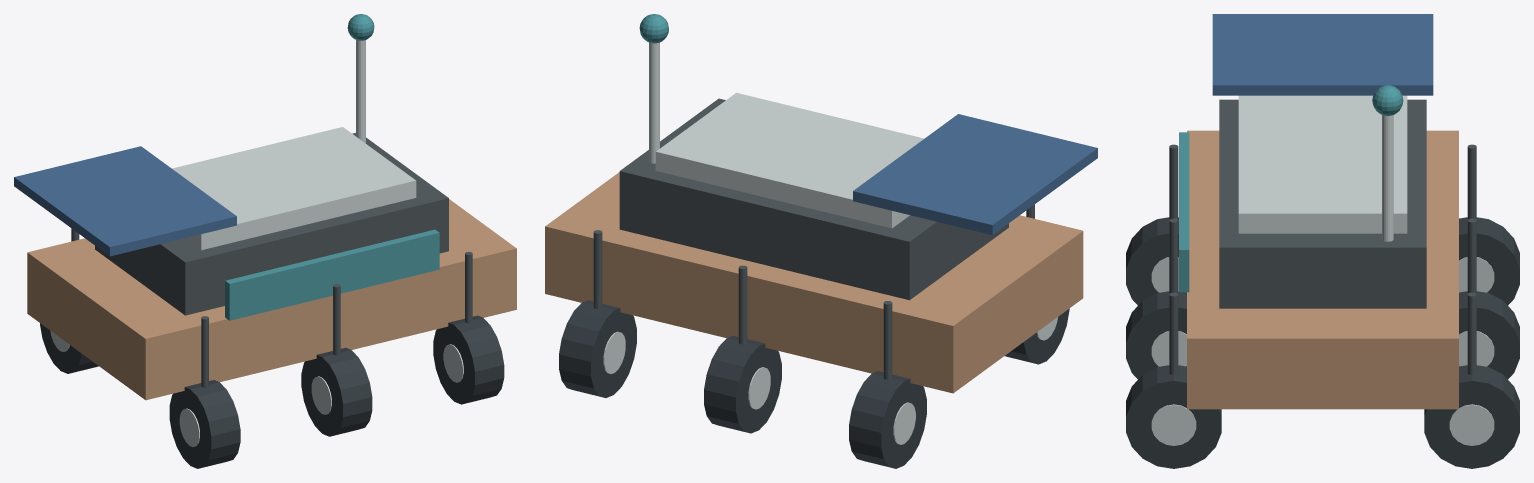
Rendered from surface_rover.glb.
The picture shows the model from 3 angles, left to right: view 1: azimuth 30°, elevation 25°; view 2: azimuth 150°, elevation 25°; view 3: azimuth 270°, elevation 25°; orthographic projection. The views are drawn at different scales.
Visible parts, largest first — view 1: box/sand, box/silver, box/graphite, cylinder/dark (×4), box/solar, box/glass, cylinder/silver (×4), cylinder/graphite (×3), sphere/glass; view 2: box/sand, box/graphite, box/silver, cylinder/dark (×4), box/solar, cylinder/silver (×4), cylinder/graphite (×3), sphere/glass; view 3: box/sand, cylinder/dark (×6), box/silver, box/graphite, box/solar, cylinder/silver (×7), cylinder/graphite (×6), box/glass, sphere/glass.
Part boxes in pixels (box(x1,y1,x2,y2)): box/sand: box(27, 199, 516, 400); box/silver: box(172, 127, 416, 250); box/graphite: box(95, 133, 448, 315); cylinder/dark (×4): box(40, 315, 504, 468); box/solar: box(14, 146, 236, 256); box/glass: box(225, 229, 439, 320); cylinder/silver (×4): box(179, 40, 463, 446); cylinder/graphite (×3): box(201, 251, 472, 387); sphere/glass: box(347, 14, 374, 40); box/sand: box(545, 172, 1083, 393); box/graphite: box(619, 98, 1008, 300); box/silver: box(655, 92, 923, 228); cylinder/dark (×4): box(559, 300, 1069, 468); box/solar: box(853, 114, 1097, 235); cylinder/silver (×4): box(603, 42, 915, 444); cylinder/graphite (×3): box(593, 230, 892, 379); sphere/glass: box(639, 14, 668, 43); box/sand: box(1187, 130, 1458, 409); cylinder/dark (×6): box(1126, 217, 1519, 468); box/silver: box(1238, 95, 1407, 233); box/graphite: box(1219, 99, 1426, 308); box/solar: box(1212, 14, 1433, 95); cylinder/silver (×7): box(1151, 115, 1494, 445); cylinder/graphite (×6): box(1169, 144, 1476, 374); box/glass: box(1179, 132, 1189, 292); sphere/glass: box(1372, 85, 1403, 115).
Size of the model in its own units: 4.05 by 3.12 by 3.04.
